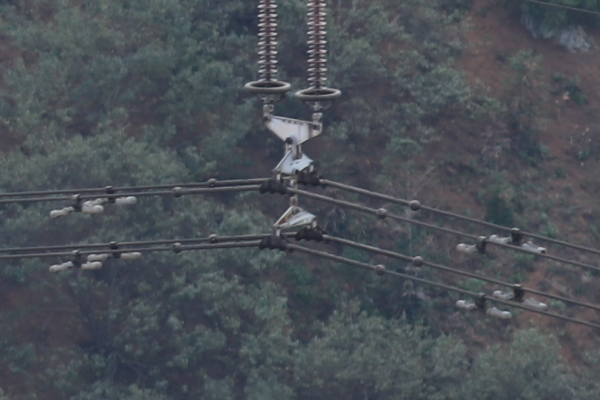damper: (454, 291, 516, 323), (487, 223, 548, 255), (489, 280, 550, 311), (47, 194, 106, 219), (47, 249, 102, 274), (85, 238, 142, 262), (82, 183, 140, 205)
damper_defect: (453, 234, 488, 257)
